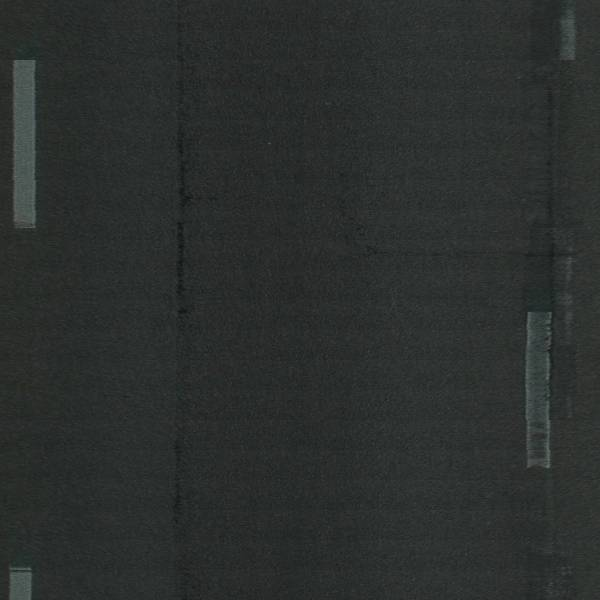road_damage: (173, 89, 192, 327), (167, 435, 192, 534)
